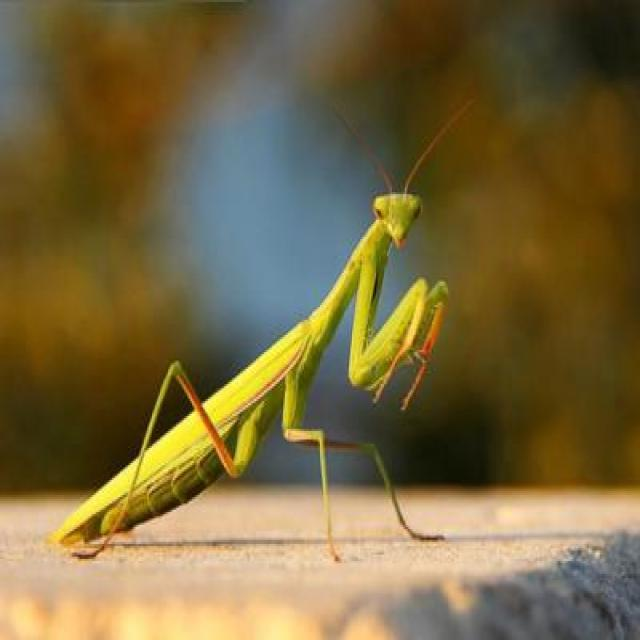antennae: (407, 103, 474, 191), (331, 107, 395, 190)
body: (96, 194, 418, 536)
insect: (47, 101, 477, 573)
legs: (80, 355, 274, 558), (286, 385, 449, 542), (351, 256, 449, 405), (346, 247, 421, 396), (280, 372, 338, 554)
mouthpart: (386, 231, 407, 252)
wings: (56, 322, 310, 552)
